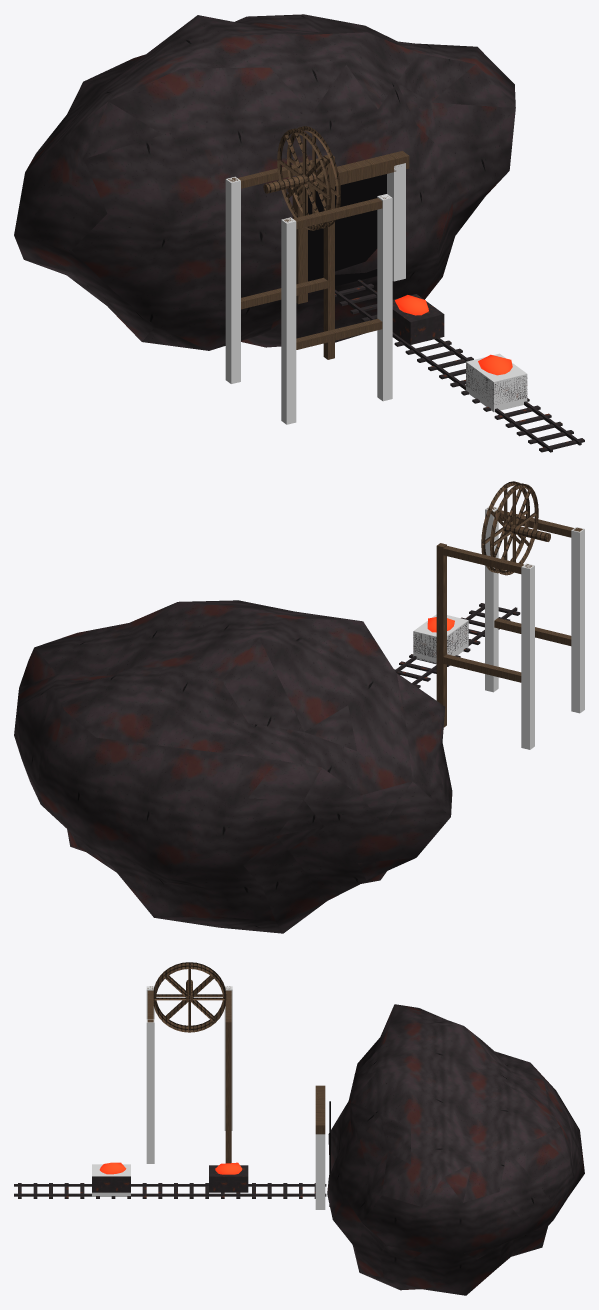
Rendered from mine_entrance.glb.
The picture shows the model from 3 angles, top to bottom: view 1: azimuth 30°, elevation 25°; view 2: azimuth 150°, elevation 25°; view 3: azimuth 270°, elevation 25°; orthographic projection. The views are drawn at different scales.
Parts seen in each view (by area): view 1: RockFace, Timbers, Dark, Rails, Waterwheel, Leg-convcolonly.003, Leg-convcolonly.002, Leg-convcolonly.001, Cart-convcolonly.001, Carts, Post-convcolonly.001, Ore; view 2: RockFace, Timbers, Waterwheel, Leg-convcolonly.002, Leg-convcolonly.003, Leg-convcolonly.001, Cart-convcolonly.001, Rails; view 3: RockFace, Waterwheel, Rails, Timbers, Carts, Leg-convcolonly.001, Post-convcolonly.001, Leg-convcolonly.002, Ore, Cart-convcolonly.001.
Boxes of the visible parts, x1,y1,x2,y2 form: RockFace: (14,14,515,350); Timbers: (228,151,409,359); Dark: (308,174,386,286); Rails: (335,279,584,452); Waterwheel: (263,126,340,230); Leg-convcolonly.003: (281,217,296,424); Leg-convcolonly.002: (225,176,240,383); Leg-convcolonly.001: (377,194,392,401); Cart-convcolonly.001: (466,353,527,411); Carts: (392,294,527,404); Post-convcolonly.001: (387,163,405,281); Ore: (395,295,512,375); RockFace: (14,600,452,933); Timbers: (436,507,582,727); Waterwheel: (481,481,550,575); Leg-convcolonly.002: (521,563,534,749); Leg-convcolonly.003: (571,527,584,713); Leg-convcolonly.001: (485,506,498,692); Cart-convcolonly.001: (413,614,468,663); Rails: (394,603,520,687); RockFace: (327,1004,584,1295); Waterwheel: (153,962,226,1032); Rails: (14,1183,326,1198); Timbers: (147,986,325,1163); Carts: (92,1165,248,1192); Leg-convcolonly.001: (146,1019,154,1163); Post-convcolonly.001: (315,1134,325,1209); Leg-convcolonly.002: (224,986,232,1130); Ore: (99,1162,242,1174); Cart-convcolonly.001: (92,1164,130,1196).
Size of what is drawn, in the model's own units: 20.2 by 14.43 by 29.26.
Materials: 6 (4 with a texture image).
